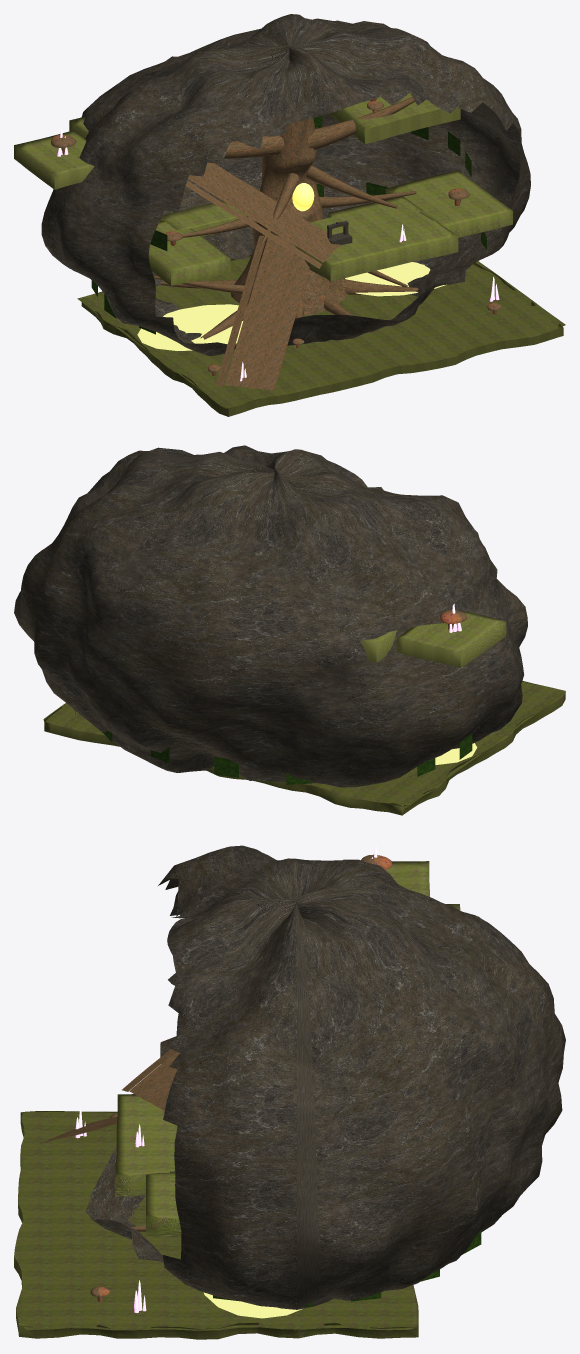
Rendered from cavern_look.glb.
The picture shows the model from 3 angles, top to bottom: view 1: azimuth 30°, elevation 25°; view 2: azimuth 150°, elevation 25°; view 3: azimuth 270°, elevation 25°; orthographic projection. The views are drawn at different scales.
Parts seen in each view (by area): view 1: Interior, Shell; view 2: Shell, Interior; view 3: Shell, Interior.
Boxes of the visible parts, x1,y1,x2,y2 form: Interior: (14, 93, 565, 416); Shell: (41, 14, 530, 356); Shell: (14, 445, 527, 787); Interior: (43, 603, 565, 815); Shell: (86, 845, 565, 1309); Interior: (14, 844, 481, 1339).
Bounding box in the file's own units: 68.72 × 41.72 × 56.1.
Materials: 9 (6 with a texture image).
